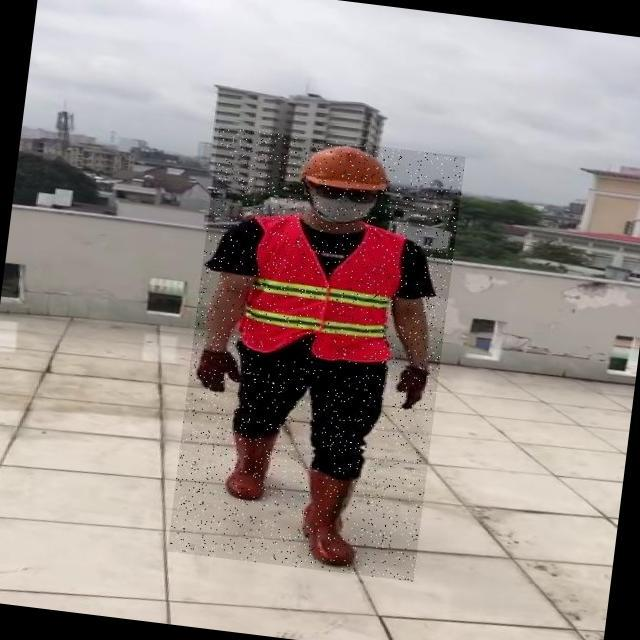Gloves: (193, 349, 244, 394), (394, 363, 431, 412)
Helmet: (297, 139, 396, 196)
Human: (168, 127, 466, 582)
Safety Boot: (296, 469, 369, 569), (223, 424, 278, 503)
Safety Vest: (237, 215, 403, 370)
